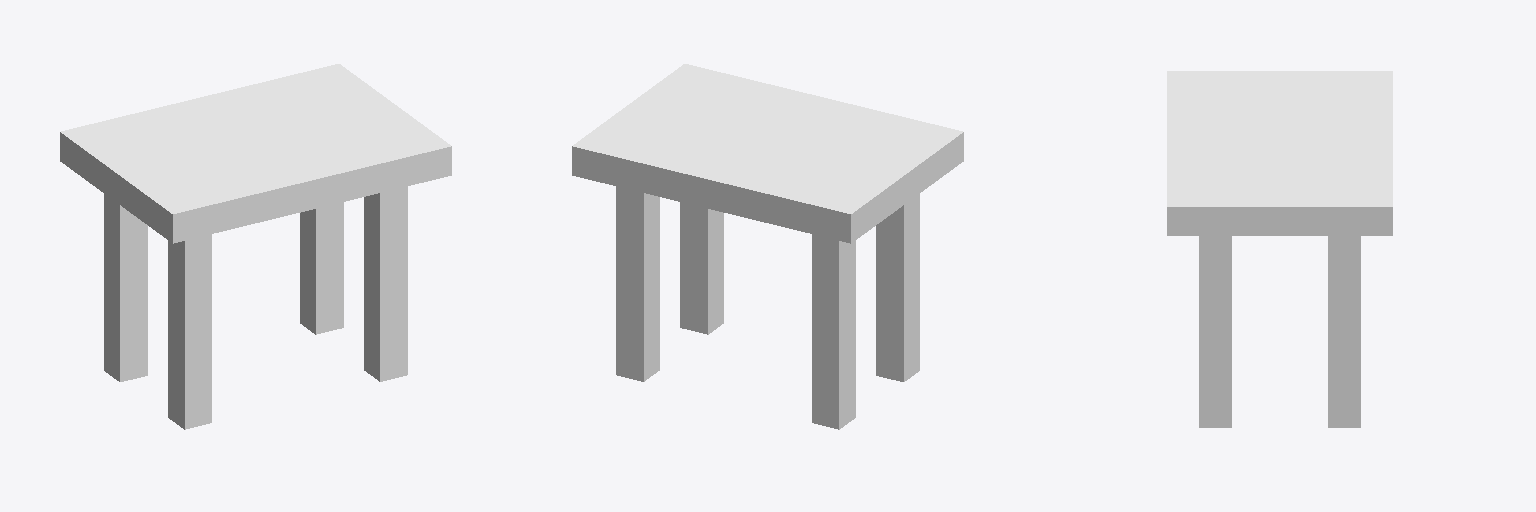
File: small table.obj
3 views of the same model, side by side, from view 1: azimuth 30°, elevation 25°; view 2: azimuth 150°, elevation 25°; view 3: azimuth 270°, elevation 25° (orthographic).
Bounding box in the file's own units: 10 × 8 × 7.